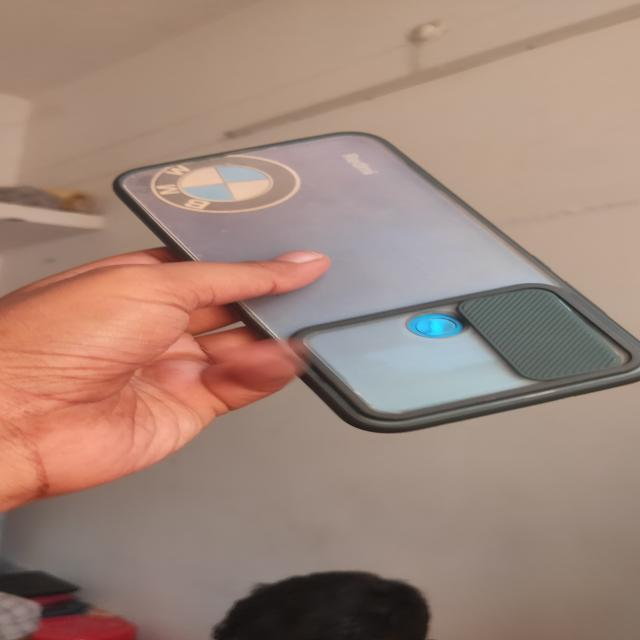Phone: (104, 126, 640, 438)
